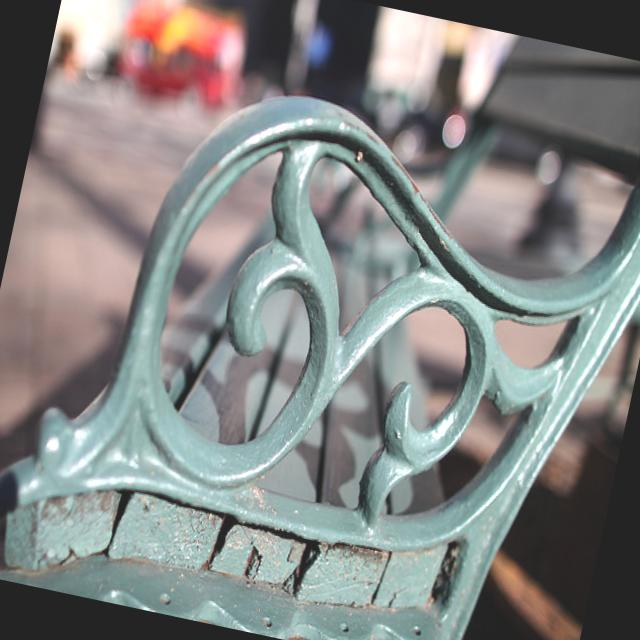Vehicle: (109, 0, 248, 120)
